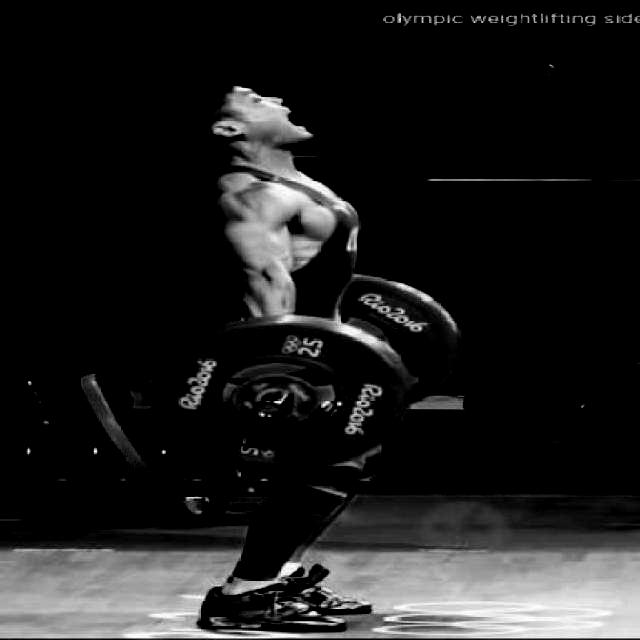barbell: (118, 307, 430, 489)
